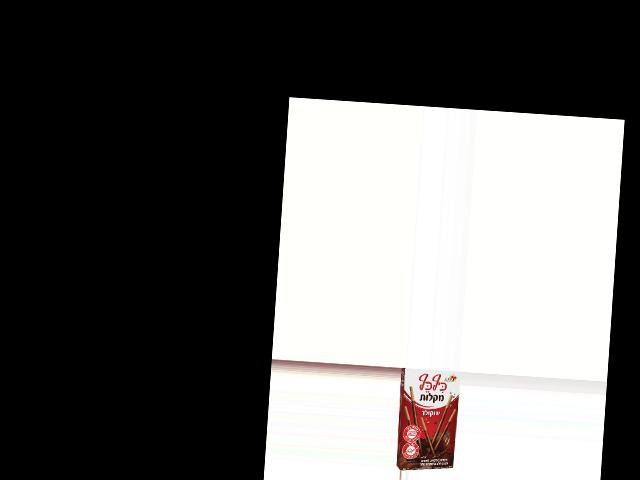chocolate: (396, 367, 461, 467)
